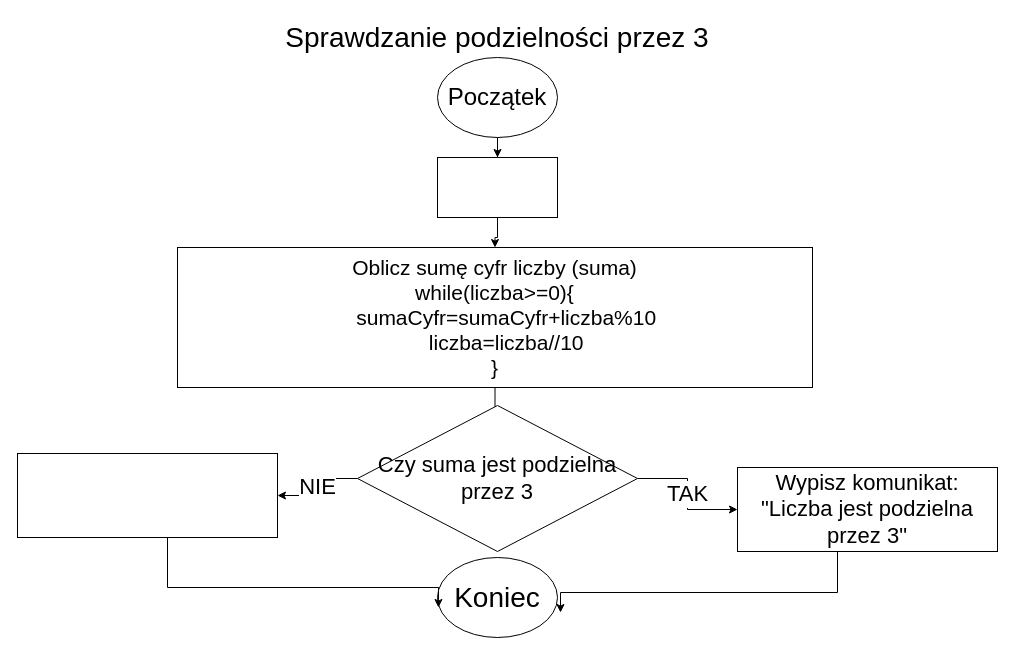
Some shapes in this 1015 by 655 pixel diagram are drawn without their labels. Here are the shapes that lost their labels. From the top down, the box of each, then its label:
(436, 156, 558, 218): Wczytaj liczbę = a
(16, 452, 278, 538): Wypisz komunikat: "Liczba nie jest podzielna przez 3"
